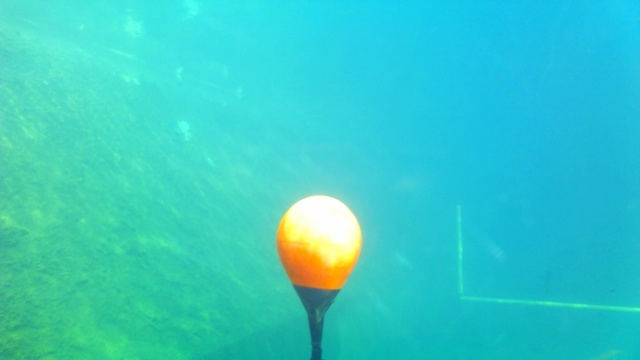buoy_red: (272, 188, 362, 310)
